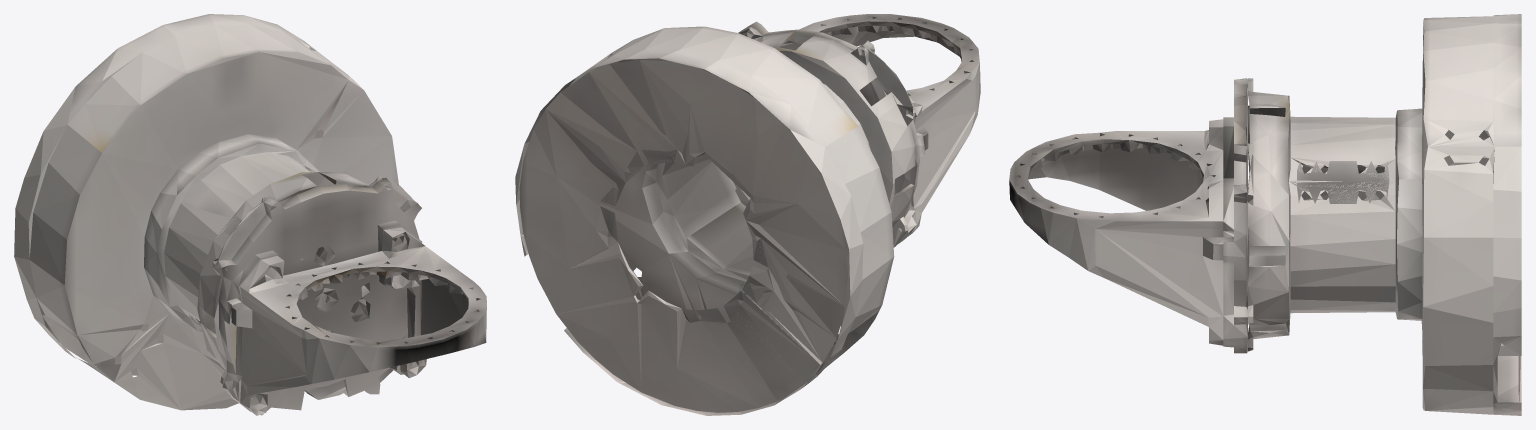
The model's file is rsm_az.obj.
3 views of the same model, side by side, from view 1: azimuth 30°, elevation 25°; view 2: azimuth 150°, elevation 25°; view 3: azimuth 270°, elevation 25° (orthographic). The views are drawn at different scales.
Bounding box in the file's own units: 0.2286 × 0.2262 × 0.2908.
1 material, 1 textured.
